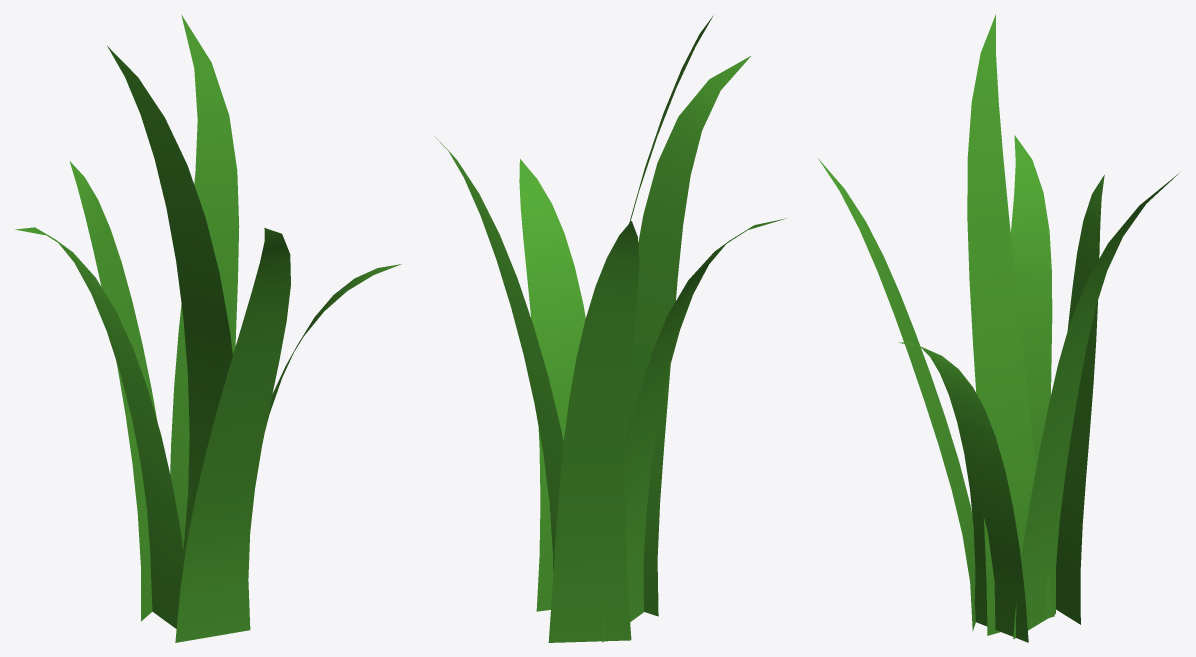
File: GrassBush3.fbx
3 renders of one model, left to right at view 1: azimuth 30°, elevation 25°; view 2: azimuth 150°, elevation 25°; view 3: azimuth 270°, elevation 25°, orthographic. The views are drawn at different scales.
Parts seen in each view (by area): view 1: GrassBush3; view 2: GrassBush3; view 3: GrassBush3.
Boxes of the visible parts, box(x1,y1,x2,y2) form: GrassBush3: box(15, 15, 401, 642); GrassBush3: box(434, 15, 786, 642); GrassBush3: box(818, 14, 1178, 642).
Size of the model in its own units: 16.42 by 29.55 by 17.32.
